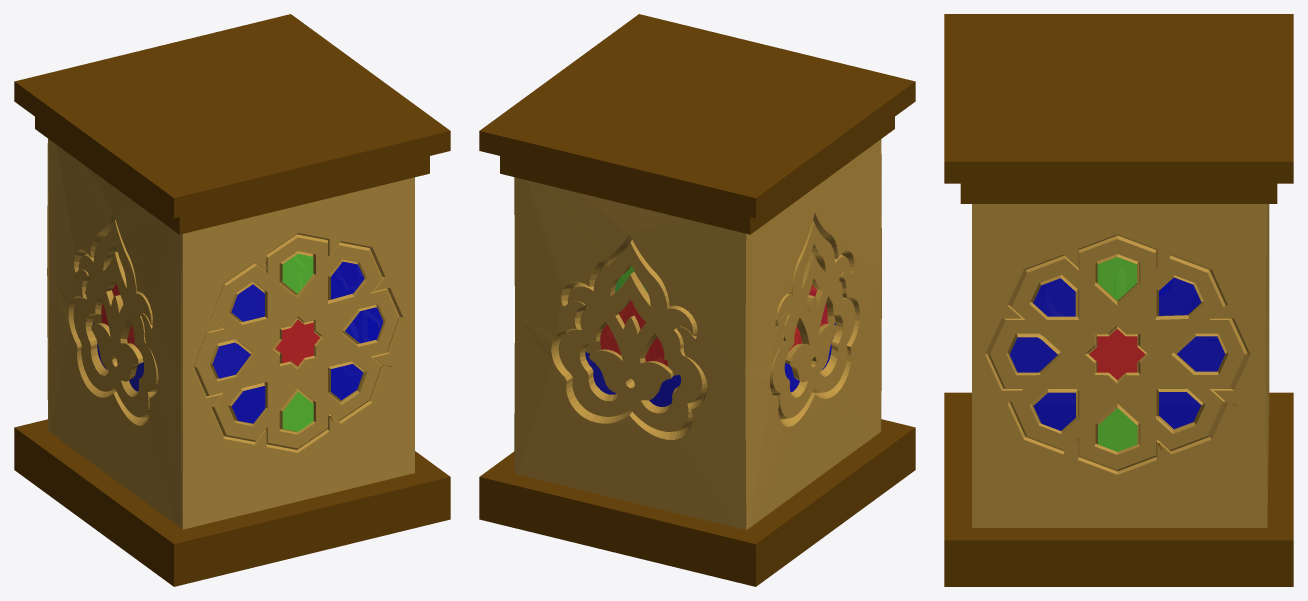
3 renders of one model, left to right at view 1: azimuth 30°, elevation 25°; view 2: azimuth 150°, elevation 25°; view 3: azimuth 270°, elevation 25°, orthographic. The views are drawn at different scales.
Visible parts, largest first — view 1: Cube; view 2: Cube; view 3: Cube.
Part boxes in pixels (x1,y1,x2,y2): Cube: (14, 14, 450, 586); Cube: (479, 14, 915, 586); Cube: (944, 14, 1293, 586).
Size of the model in its own units: 2 by 2.69 by 2.
